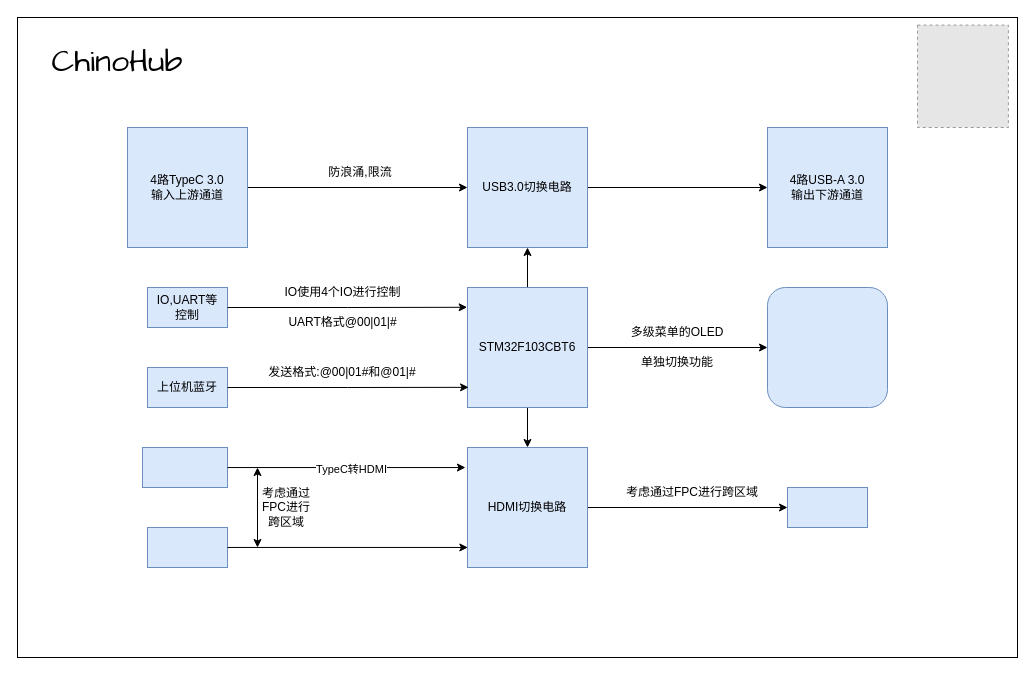
Image size: 1035x675. Some labels were removed from this diagram. Grey dashed boxes stand in for pictures. Each missing label, with the centre of its shape:
"HDMI" goes at (x=187, y=547).
"HDMI 单路输出" goes at (x=827, y=507).
"OLED" goes at (x=827, y=347).
"TypeC3.0" goes at (x=185, y=467).
